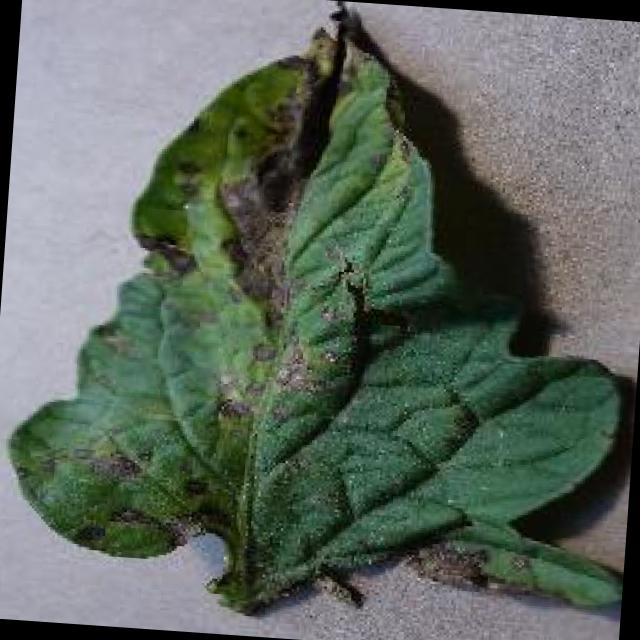Tomato_Early_Blight: (78, 2, 429, 584)
